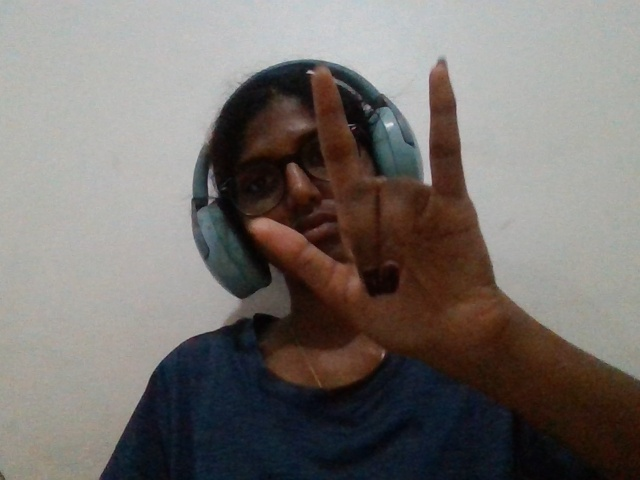I Love You: (207, 52, 538, 444)
